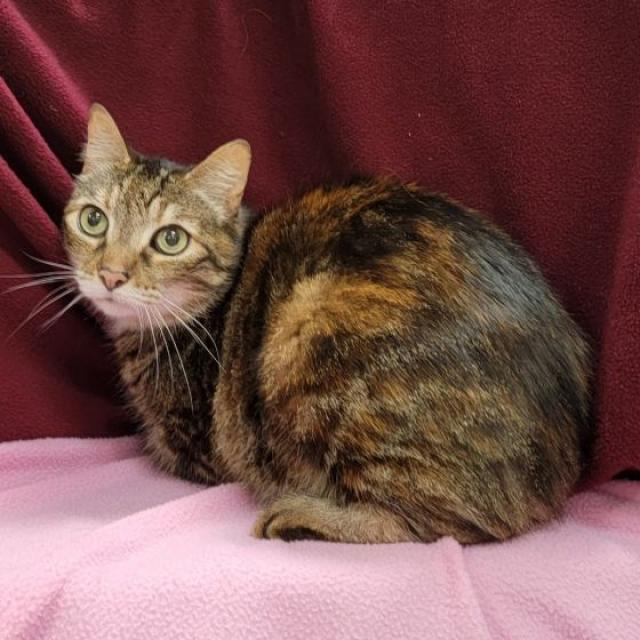domestic_short_hair_cat: (51, 92, 262, 351)
